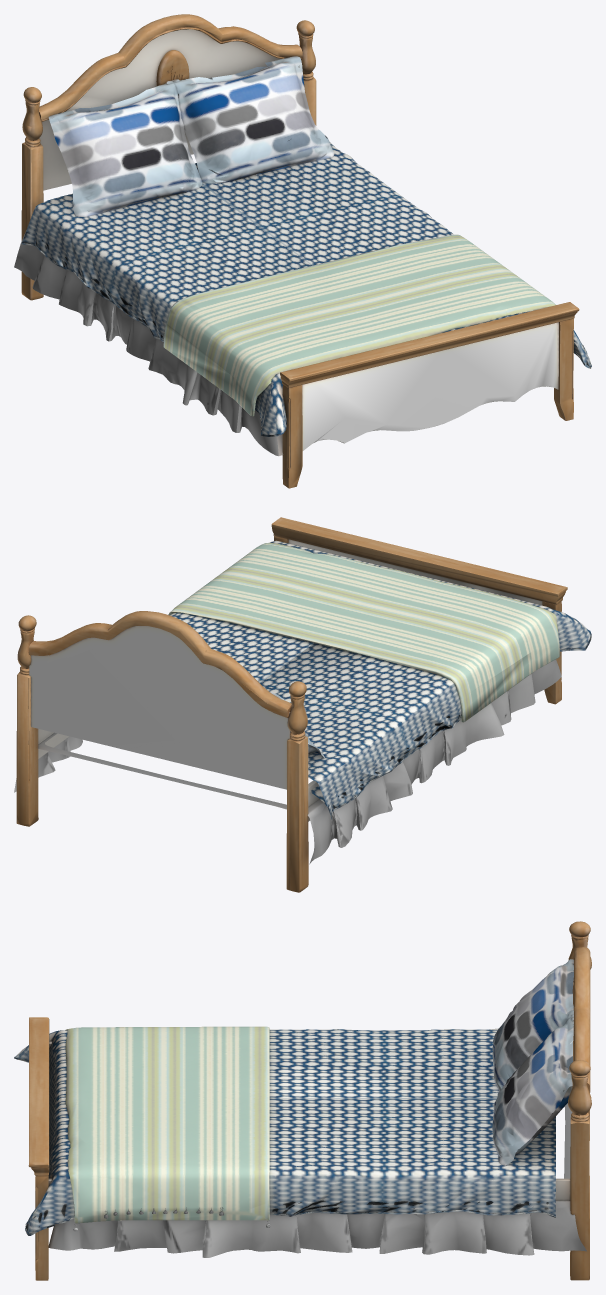
File: Bed9.obj
3 views of the same model, one above another, from view 1: azimuth 30°, elevation 25°; view 2: azimuth 150°, elevation 25°; view 3: azimuth 270°, elevation 25° (orthographic). The views are drawn at different scales.
Parts seen in each view (by area): view 1: solid_008, solid_004, solid_001, solid_005, solid_006, solid_002; view 2: solid_004, solid_005, solid_008, solid_006, solid_002; view 3: solid_008, solid_004, solid_002, solid_001, solid_006.
Boxes of the visible parts, box(x1,y1,x2,y2) form: solid_008: box(21, 142, 591, 436); solid_004: box(163, 234, 555, 416); solid_001: box(48, 56, 334, 216); solid_005: box(39, 29, 558, 450); solid_006: box(21, 14, 579, 488); solid_002: box(14, 232, 283, 456); solid_004: box(168, 542, 560, 722); solid_005: box(29, 539, 542, 821); solid_008: box(170, 540, 591, 819); solid_006: box(16, 517, 567, 892); solid_002: box(14, 659, 561, 864); solid_008: box(14, 1028, 555, 1235); solid_004: box(65, 1026, 269, 1223); solid_002: box(48, 1103, 586, 1257); solid_001: box(492, 959, 573, 1165); solid_006: box(28, 921, 591, 1280).
Bounding box in the file's own units: 1.37 × 0.9691 × 2.
Materials: 1 (1 with a texture image).
